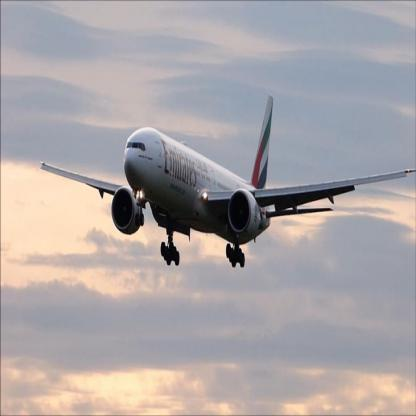CIV_Plane: (35, 90, 414, 276)
